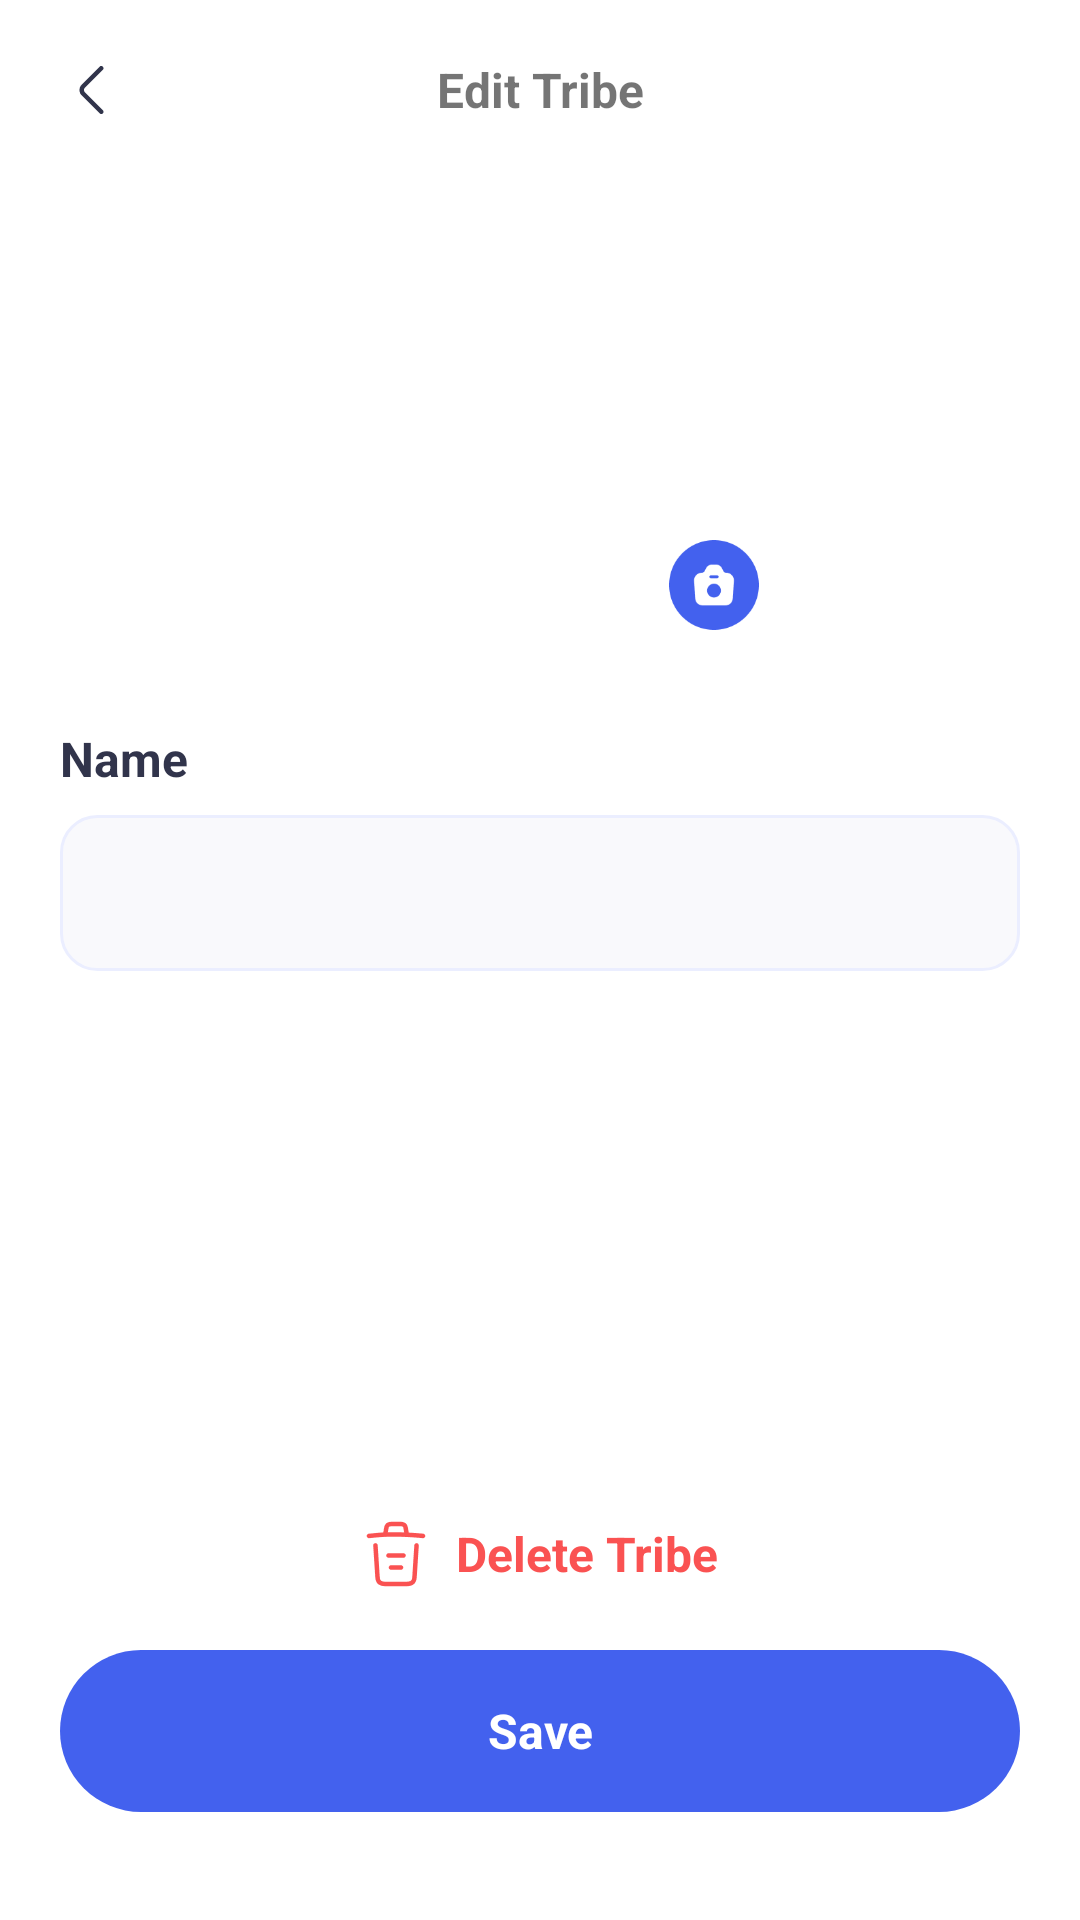

Icons on this 1080×1920 Android screen, each with its box as (left=x1, top=y1, right=x2, bottom=y2):
navigation back: (left=79, top=66, right=104, bottom=114)
take photo: (left=669, top=540, right=759, bottom=630)
